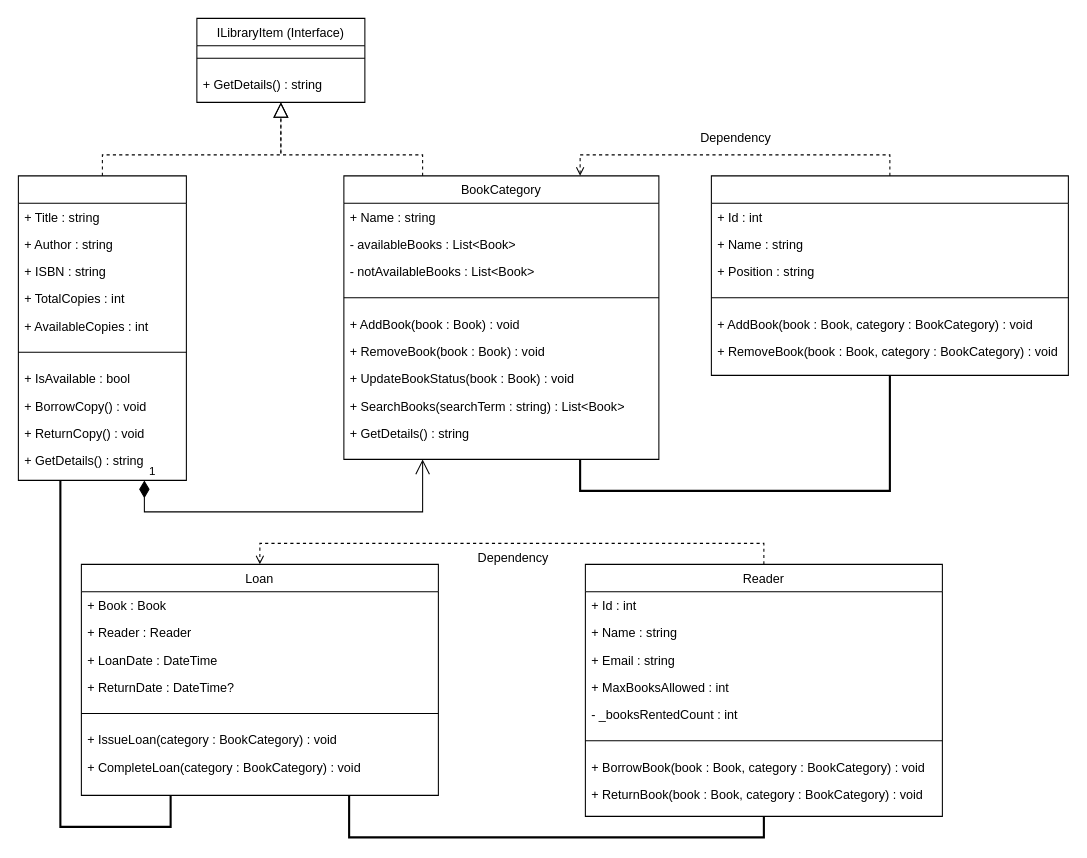
Image size: 1087x858. Some labels were removed from this diagram. The box of each missing label's shape, as (x1, y1, x2, y2) in pixels:
Book: (17, 175, 186, 480)
Librarian: (710, 175, 1068, 375)
